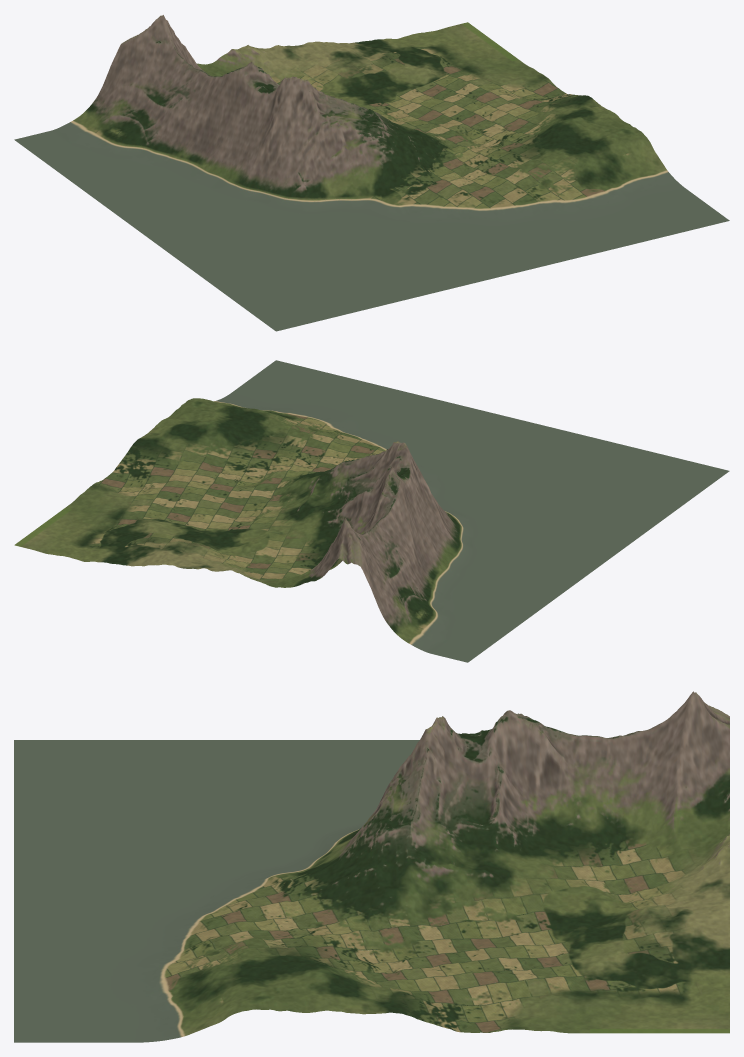
3 renders of one model, top to bottom at view 1: azimuth 30°, elevation 25°; view 2: azimuth 150°, elevation 25°; view 3: azimuth 270°, elevation 25°, orthographic. The views are drawn at different scales.
Visible parts, largest first — view 1: Terrain 01; view 2: Terrain 01; view 3: Terrain 01.
Boxes of the visible parts, box(x1,y1,x2,y2) form: Terrain 01: box(14, 15, 729, 331); Terrain 01: box(14, 360, 729, 662); Terrain 01: box(14, 691, 729, 1042).
Size of the model in its own units: 5000 by 1074 by 5000.
1 material, 1 textured.
